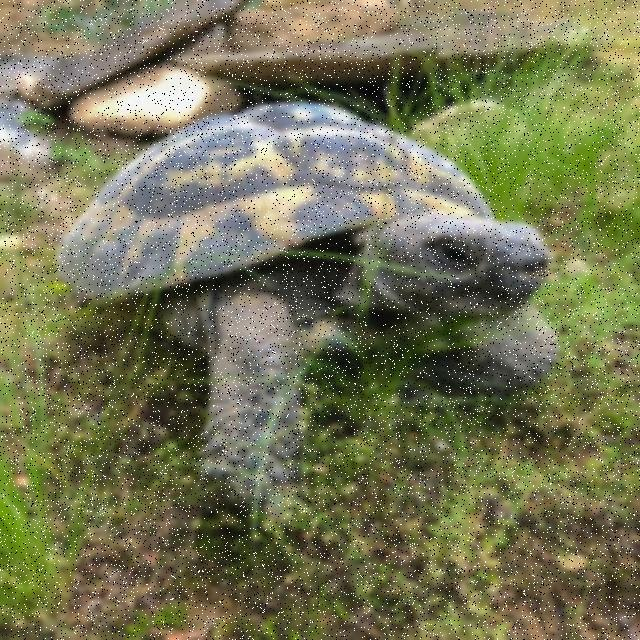tortoise: (54, 99, 566, 488)
